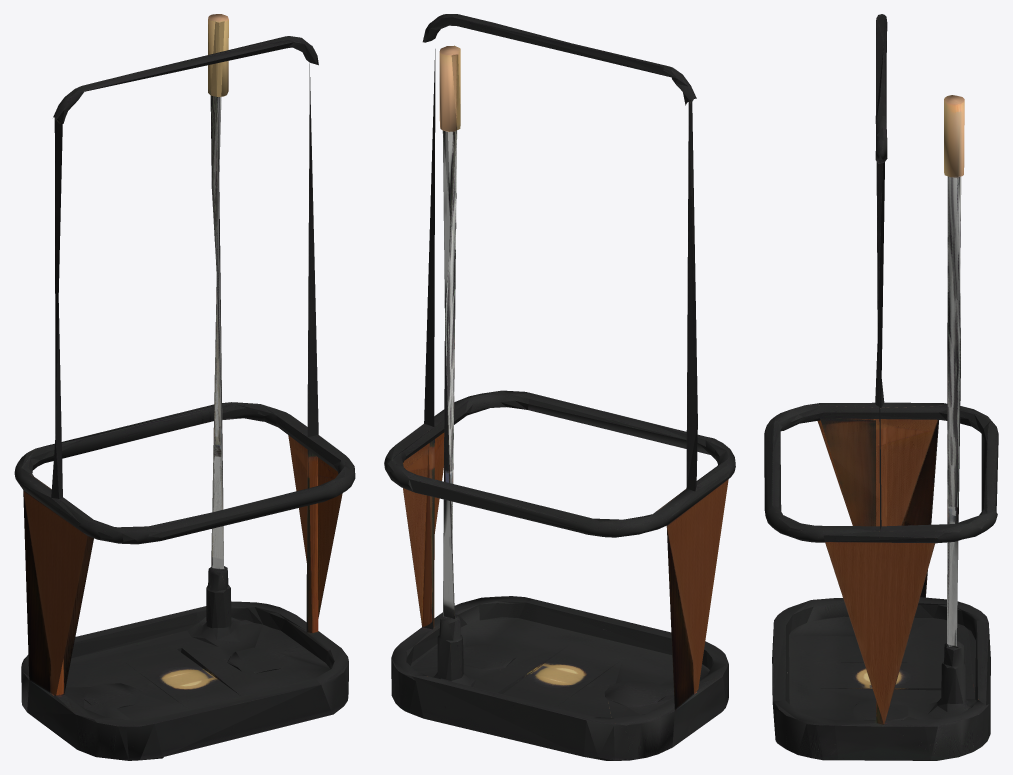
The model's file is PR_MopRack.fbx.
3 views of the same model, side by side, from view 1: azimuth 30°, elevation 25°; view 2: azimuth 150°, elevation 25°; view 3: azimuth 270°, elevation 25° (orthographic). The views are drawn at different scales.
Parts seen in each view (by area): view 1: Mesh_0; view 2: Mesh_0; view 3: Mesh_0.
Part boxes in pixels (x1,y1,x2,y2): Mesh_0: (14, 14, 355, 760); Mesh_0: (384, 14, 735, 760); Mesh_0: (764, 14, 998, 760).
Bounding box in the file's own units: 84.25 × 190 × 63.83.
1 material, 1 textured.
